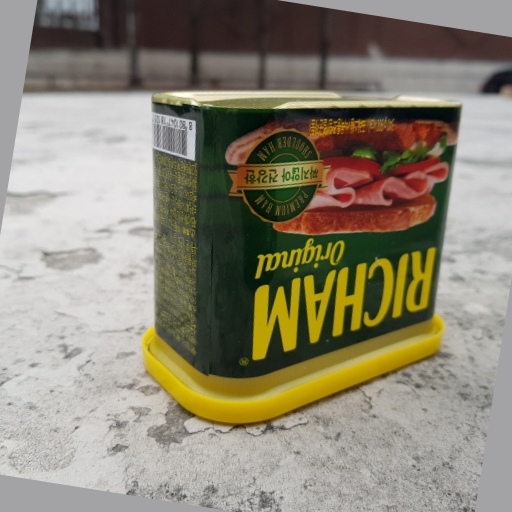Metal_2: (142, 85, 465, 424)
